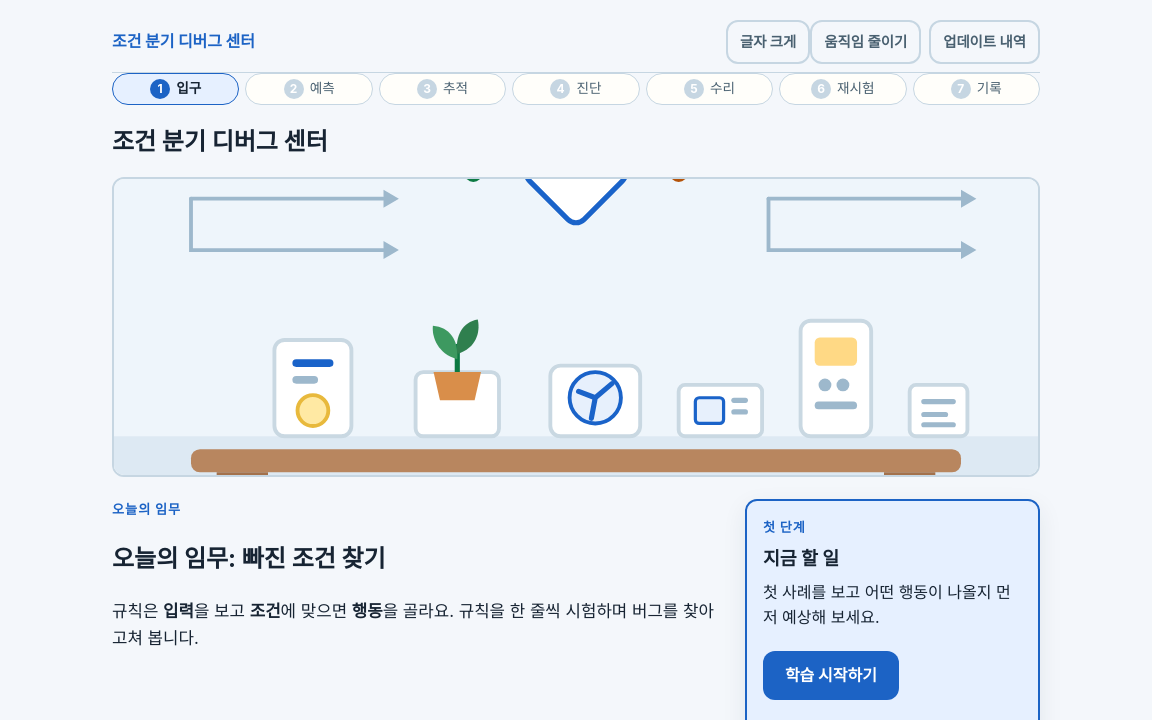
Test case: 핵심 학습 화면 흐름 › 예측 전에는 규칙 추적을 열 수 없다
Click the button "학습 시작하기" at (831, 676), box 763,651 -> 899,700
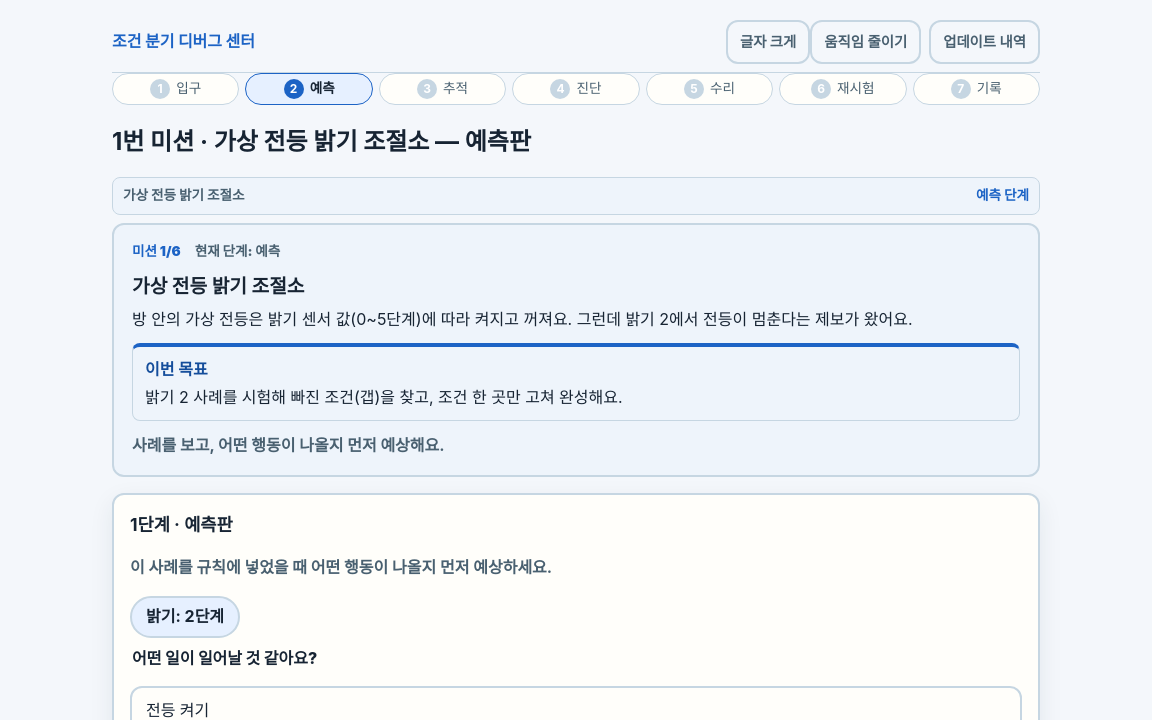
Now the heading "1단계 · 예측판" is shown, box 130,514 -> 233,535
